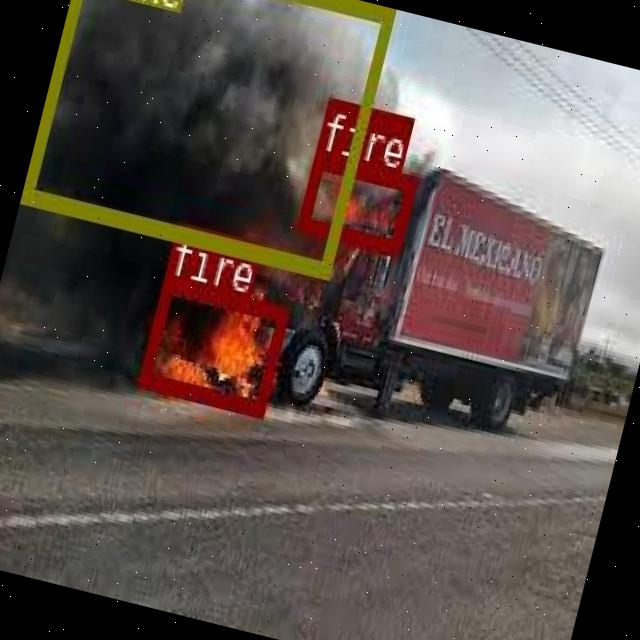fire: (134, 274, 288, 416), (294, 148, 415, 252)
smoke: (20, 0, 393, 276)
